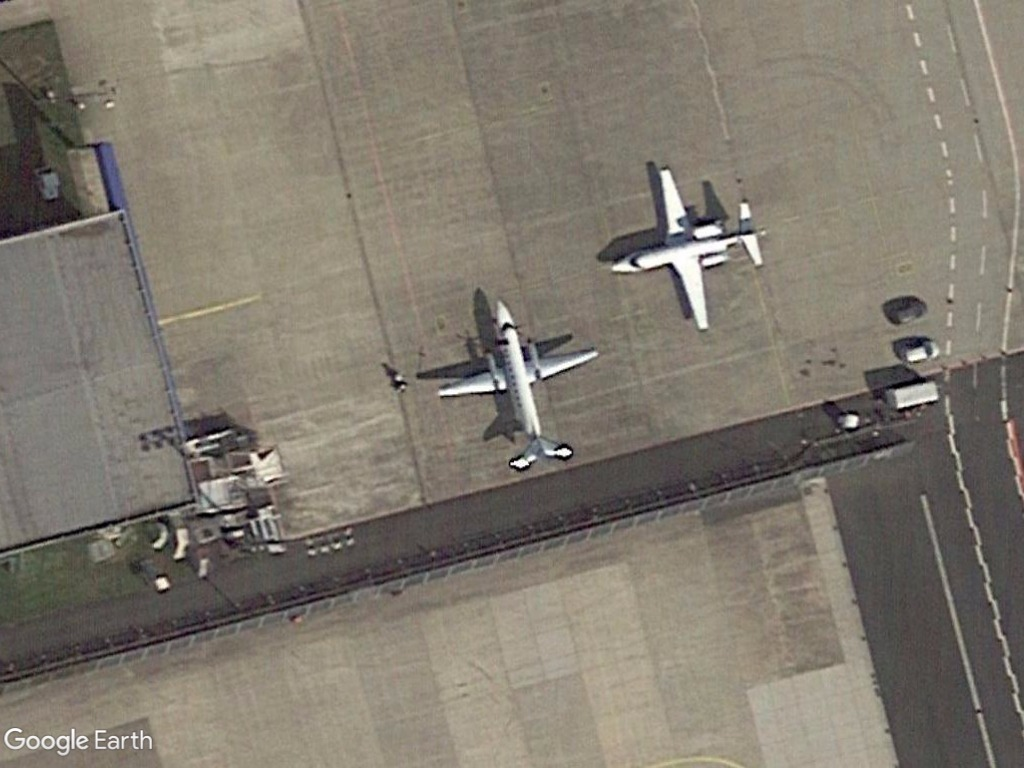car: (894, 335, 946, 370)
chartered: (600, 153, 782, 342)
propeller: (431, 278, 608, 480)
